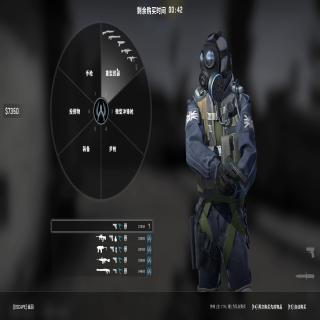CT-Body: (186, 33, 256, 291)
CT-Head: (198, 32, 230, 84)
